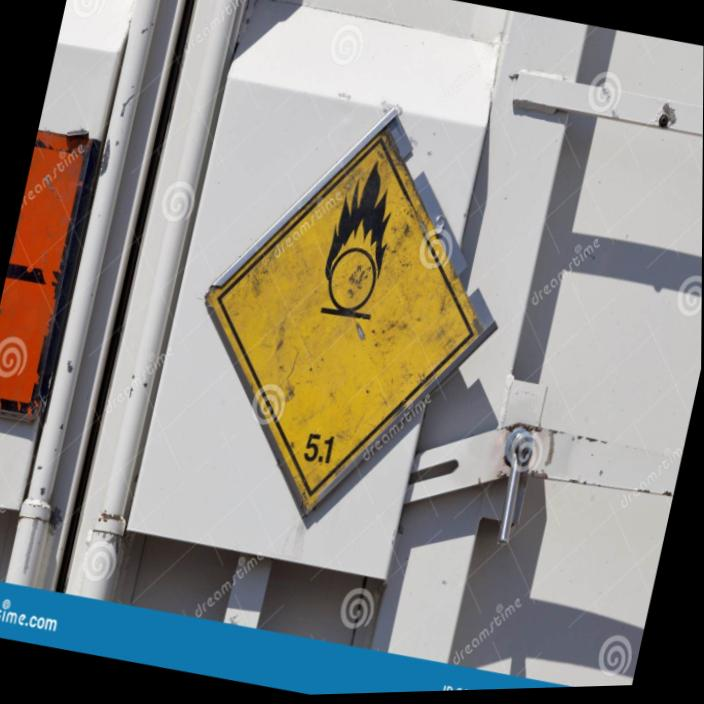defibrillator: (206, 114, 485, 512)
